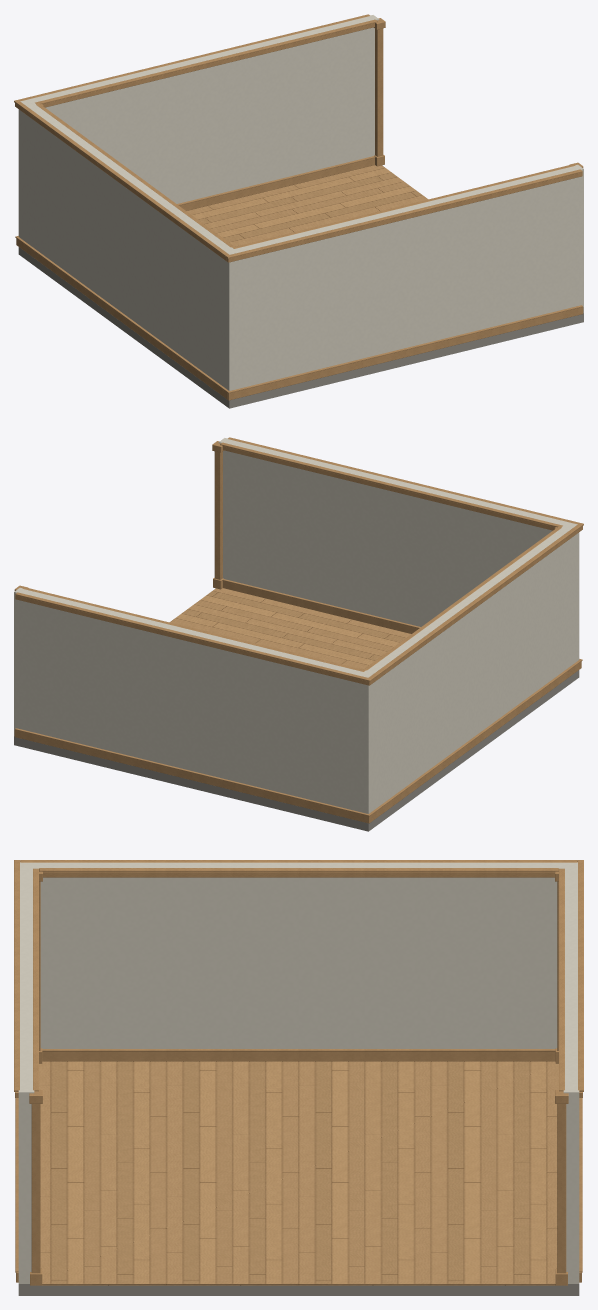
File: left.glb
3 renders of one model, top to bottom at view 1: azimuth 30°, elevation 25°; view 2: azimuth 150°, elevation 25°; view 3: azimuth 270°, elevation 25°, orthographic. The views are drawn at different scales.
Parts seen in each view (by area): view 1: Wall_Upper (×3), Wall_Lower (×3), Trim_Upper (×3), Floor, Trim_Lower (×3), Wall_Foundation (×2), Oak_Column; view 2: Wall_Upper (×3), Wall_Lower (×3), Trim_Upper (×3), Floor, Trim_Lower (×3), Wall_Foundation (×2), Oak_Column; view 3: Floor, Wall_Upper (×3), Wall_Lower (×3), Trim_Upper (×3), Trim_Lower (×3), Floor_Foundation, Oak_Column (×2).
Part boxes in pixels (x1,y1,x2,y2): Wall_Upper (×3): (18, 15, 583, 357); Wall_Lower (×3): (18, 123, 583, 390); Trim_Upper (×3): (14, 14, 582, 262); Floor: (186, 165, 428, 246); Trim_Lower (×3): (15, 156, 583, 400); Wall_Foundation (×2): (24, 251, 583, 408); Oak_Column: (375, 28, 383, 156); Wall_Upper (×3): (14, 438, 579, 780); Wall_Lower (×3): (14, 546, 579, 813); Trim_Upper (×3): (15, 437, 583, 685); Floor: (169, 588, 411, 669); Trim_Lower (×3): (14, 579, 582, 823); Wall_Foundation (×2): (14, 674, 573, 831); Oak_Column: (214, 451, 222, 579); Floor: (39, 1061, 558, 1285); Wall_Upper (×3): (18, 862, 579, 1228); Wall_Lower (×3): (18, 1005, 579, 1283); Trim_Upper (×3): (14, 860, 583, 1097); Trim_Lower (×3): (15, 1049, 582, 1282); Floor_Foundation: (34, 1285, 563, 1295); Oak_Column (×2): (31, 1104, 566, 1273).
Size of the model in its own units: 8.39 by 3.4 by 8.62.
Materials: 4 (3 with a texture image).
